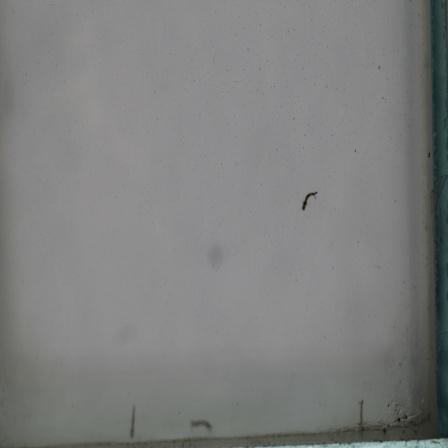Jentik-Nyamuk: (297, 187, 322, 212)
